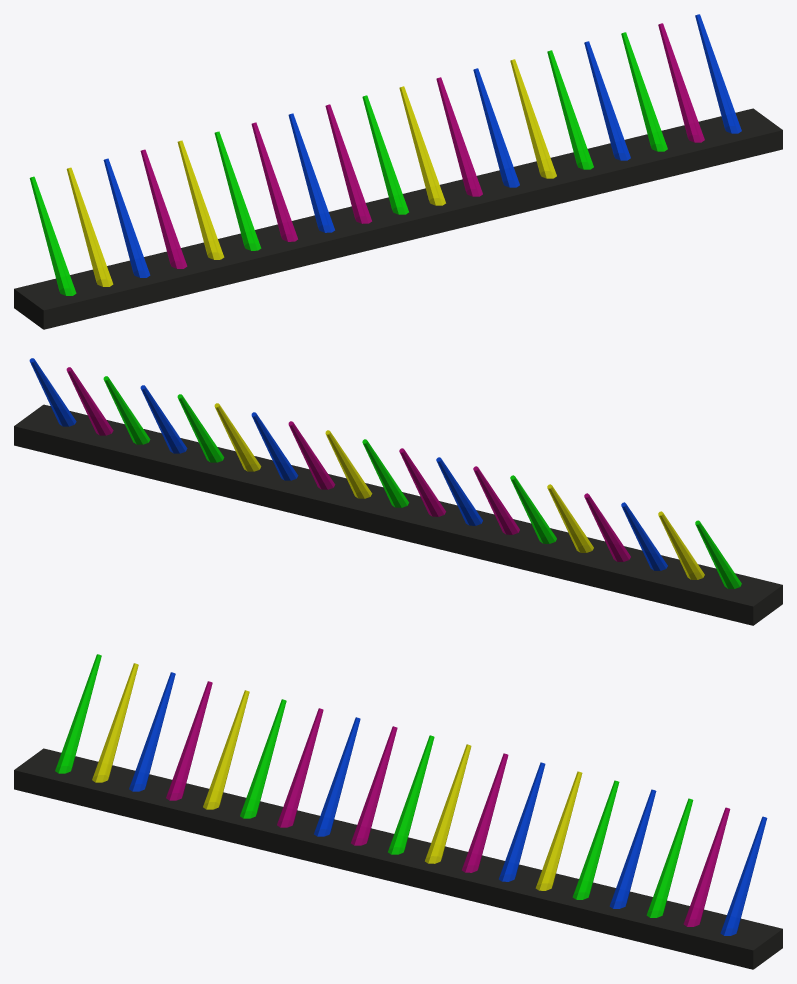
File: CandySpikeStrip.fbx
The picture shows the model from 3 angles, top to bottom: view 1: azimuth 30°, elevation 25°; view 2: azimuth 150°, elevation 25°; view 3: azimuth 330°, elevation 25°; orthographic projection.
Parts seen in each view (by area): view 1: SpikeStrip; view 2: SpikeStrip; view 3: SpikeStrip.
Boxes of the visible parts, <box> form: SpikeStrip: <box>14,14,782,329</box>; SpikeStrip: <box>14,358,782,625</box>; SpikeStrip: <box>14,654,782,969</box>.
Size of the model in its own units: 10 by 1.41 by 1.16.
